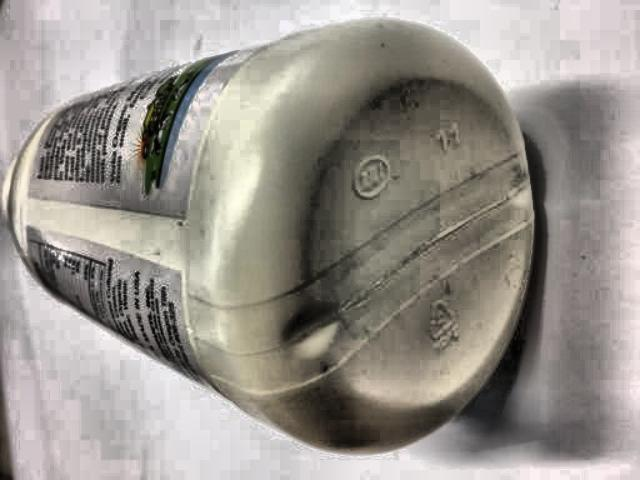Plastic: (0, 17, 548, 480)
